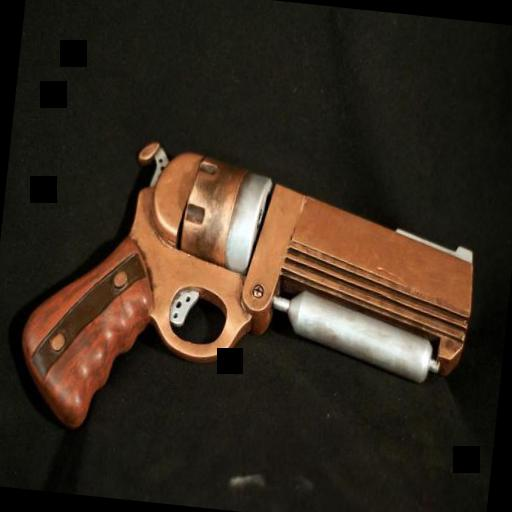Handgun: (13, 122, 485, 472)
